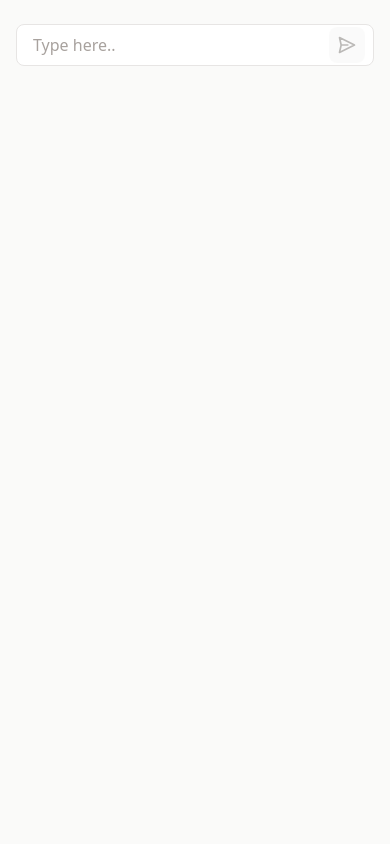
Test: tag row — space inserts multi-tag delimiter › inserts " #" after Space so a second tag can be typed (leading # is outside the input)
Click the text box named "New note" at (165, 45), box x1=17 y1=25 x2=313 y2=65
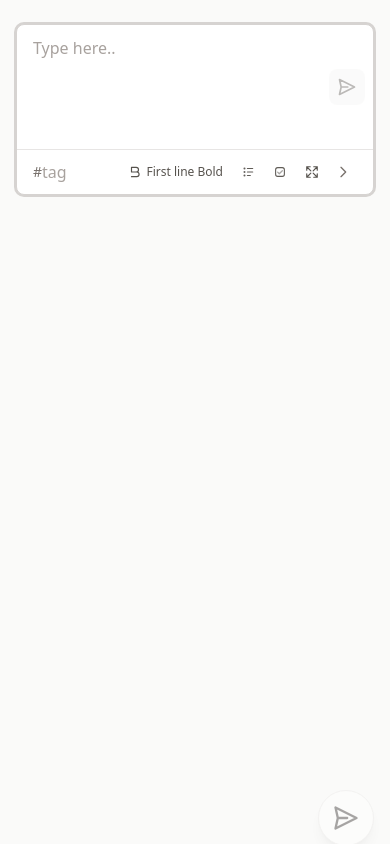
Click the field named "Tags" at (78, 172), box x1=42 y1=162 x2=114 y2=182
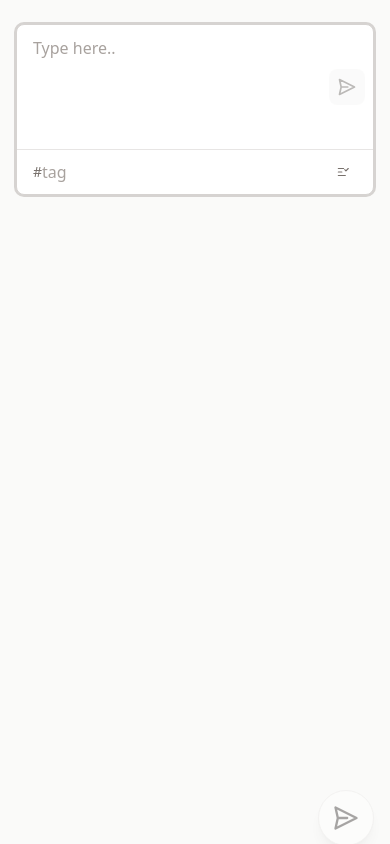
Type "alpha" into the field named "Tags" at (182, 172), box x1=42 y1=162 x2=323 y2=182
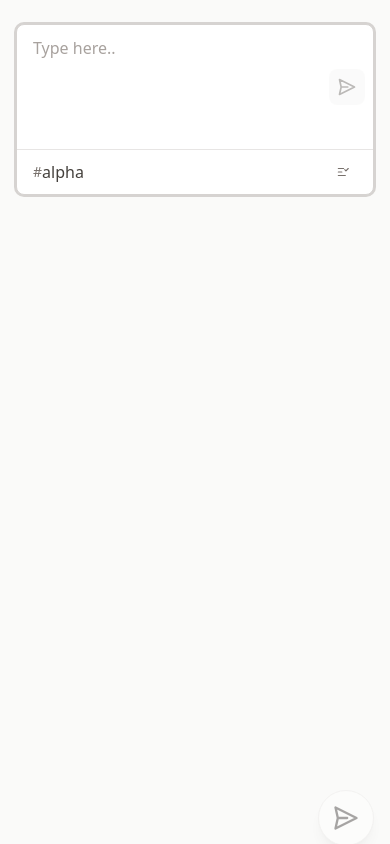
Press Space in the field named "Tags", box x1=42 y1=162 x2=323 y2=182
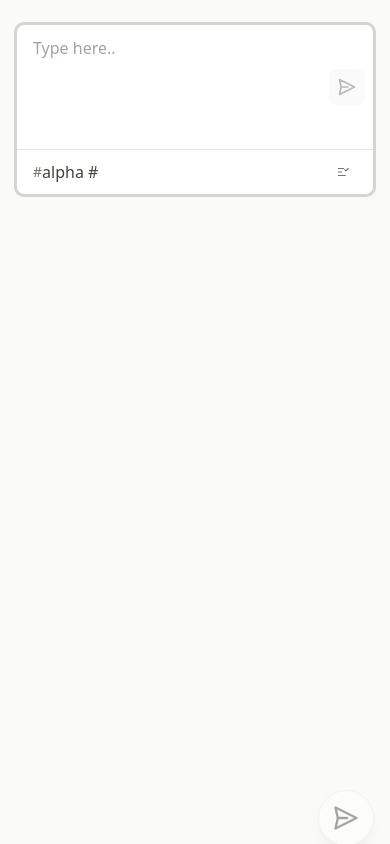
Check: the field named "Tags" holds "alpha #", box x1=42 y1=162 x2=323 y2=182
